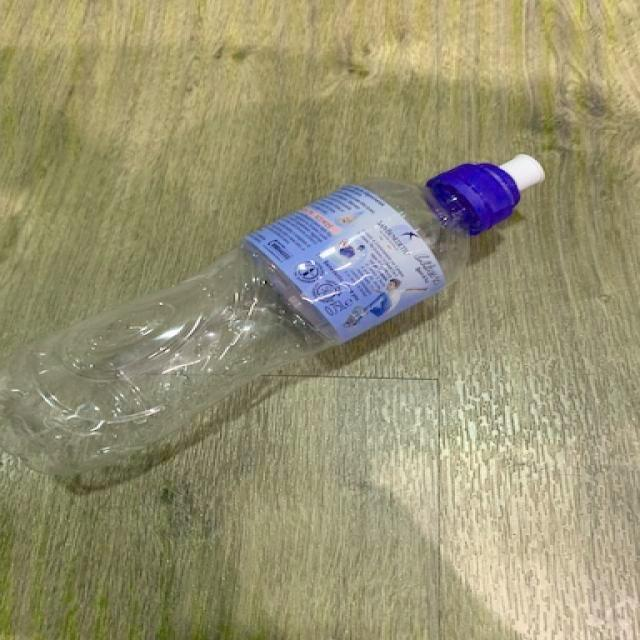bottle: (4, 154, 549, 480)
